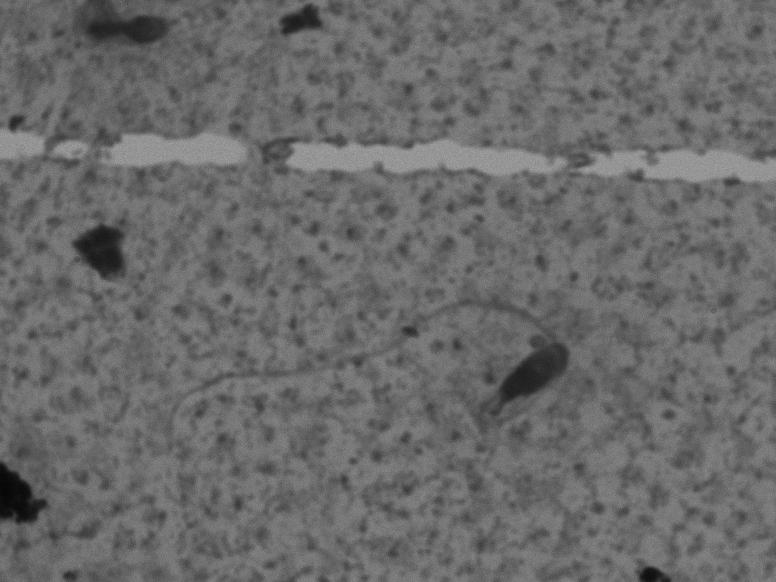Abnormal: (147, 282, 613, 539)
